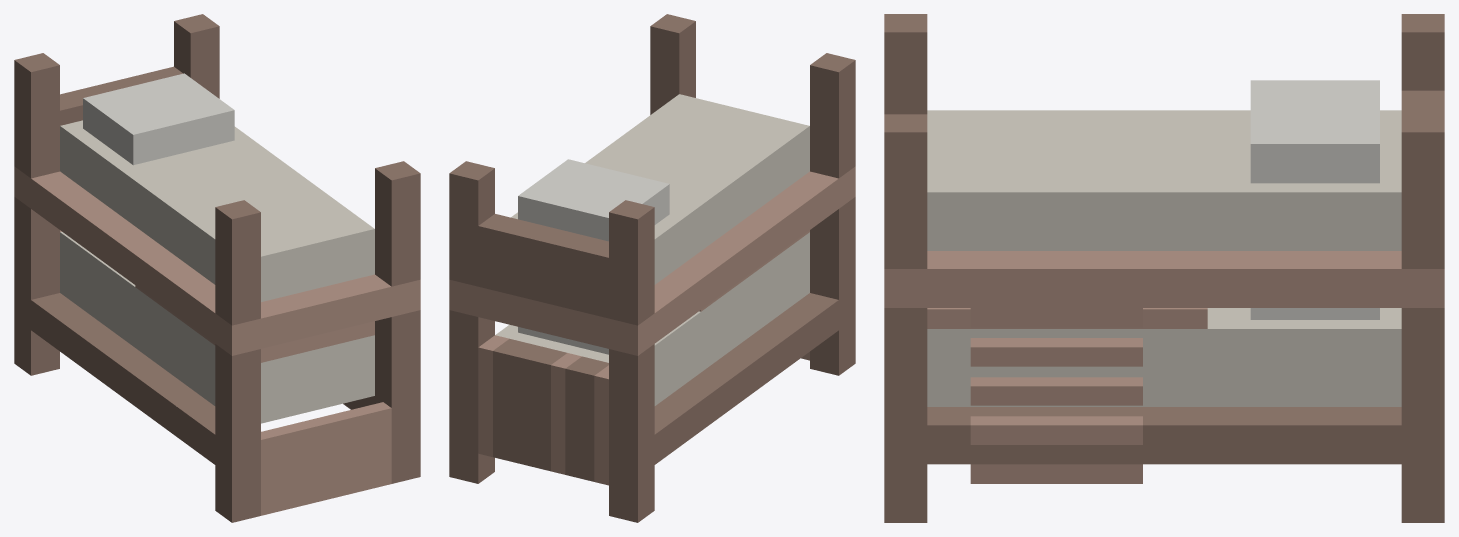
File: litera_01.glb
The picture shows the model from 3 angles, left to right: view 1: azimuth 30°, elevation 25°; view 2: azimuth 150°, elevation 25°; view 3: azimuth 270°, elevation 25°; orthographic projection. The views are drawn at different scales.
Parts seen in each view (by area): view 1: litera; view 2: litera; view 3: litera.
Boxes of the visible parts, x1,y1,x2,y2 form: litera: [14, 14, 420, 522]; litera: [449, 14, 855, 522]; litera: [884, 14, 1444, 522].
Size of the model in its own units: 1 by 1.54 by 2.
